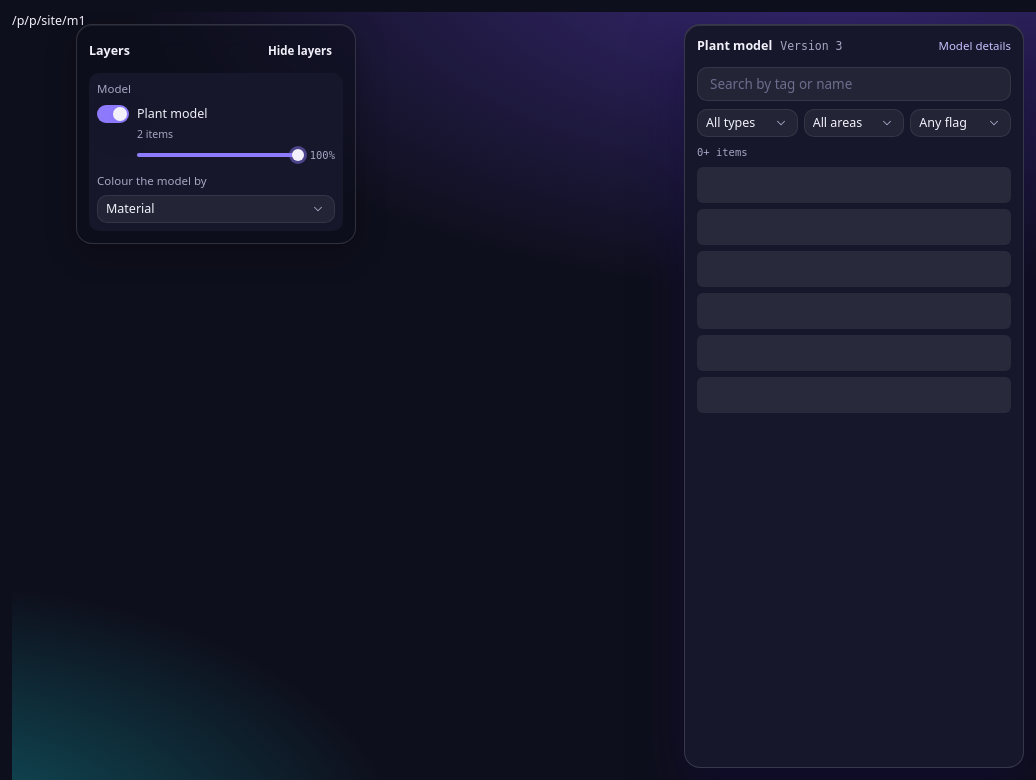
Scenario: SitePanels › Back keeps the search and the loaded rows (final fix 2)
Type "tank" into the search field named "Search the register".
click(854, 84); type("tank")  # box [697, 67, 1011, 101]
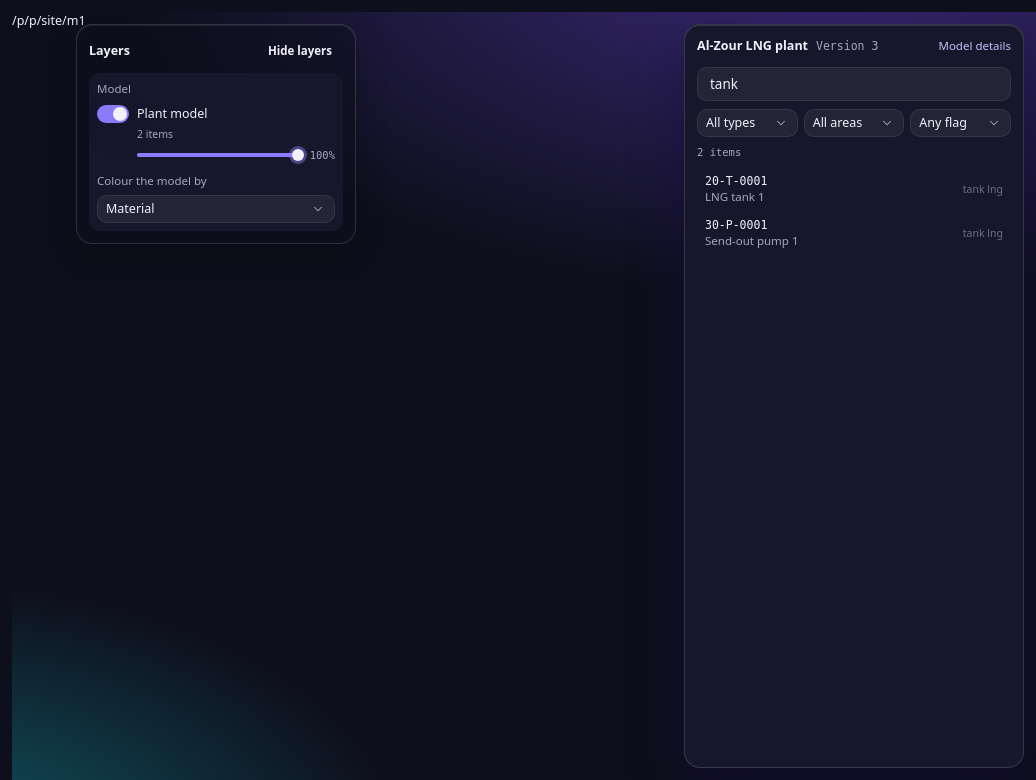
Click the button "20-T-0001 LNG tank 1 tank lng".
click(736, 181)  # box [697, 167, 1011, 211]
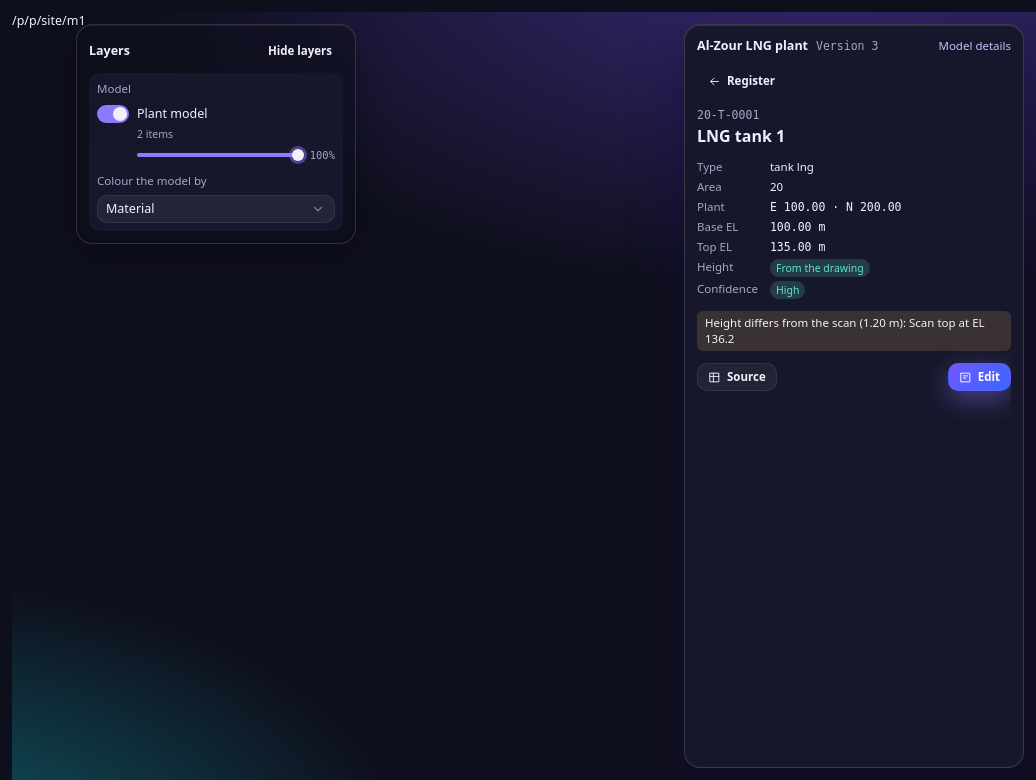
Expected: the heading "LNG tank 1" is shown, [697, 125, 785, 147]
Expected: the search field labelled "Search the register" is gone
Click the button "Register".
click(741, 81)  # box [697, 67, 786, 95]
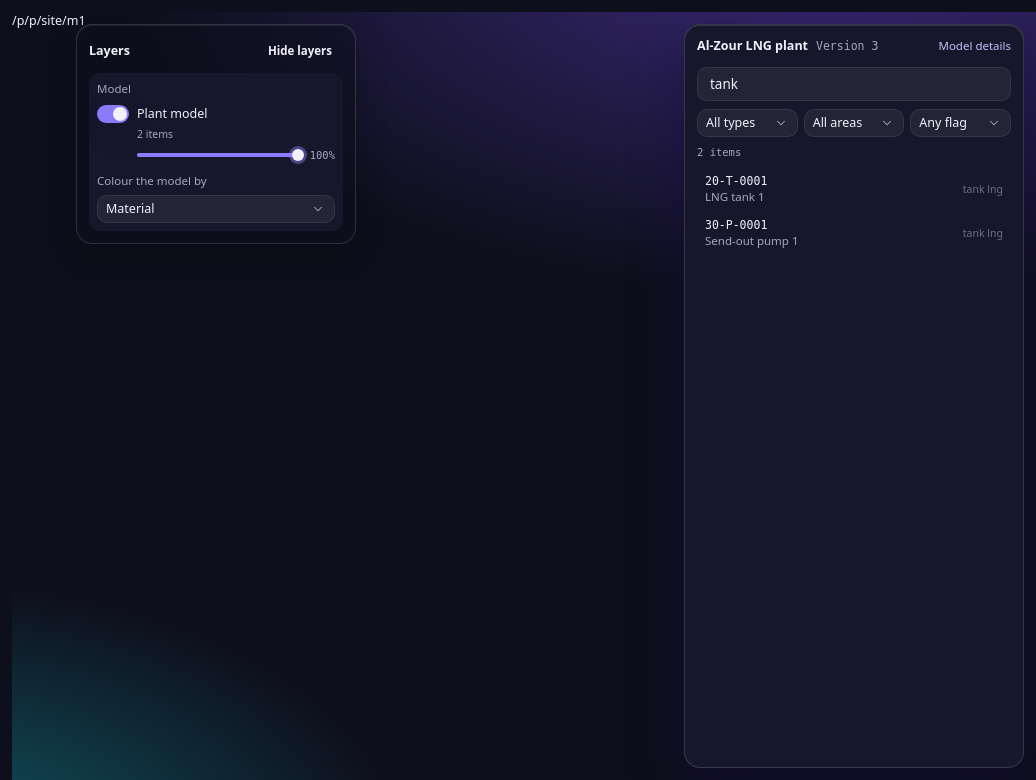
Expected: the button "20-T-0001 LNG tank 1 tank lng" is shown, [697, 167, 1011, 211]
